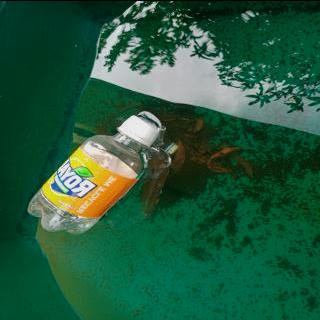bottle: (22, 111, 164, 236)
